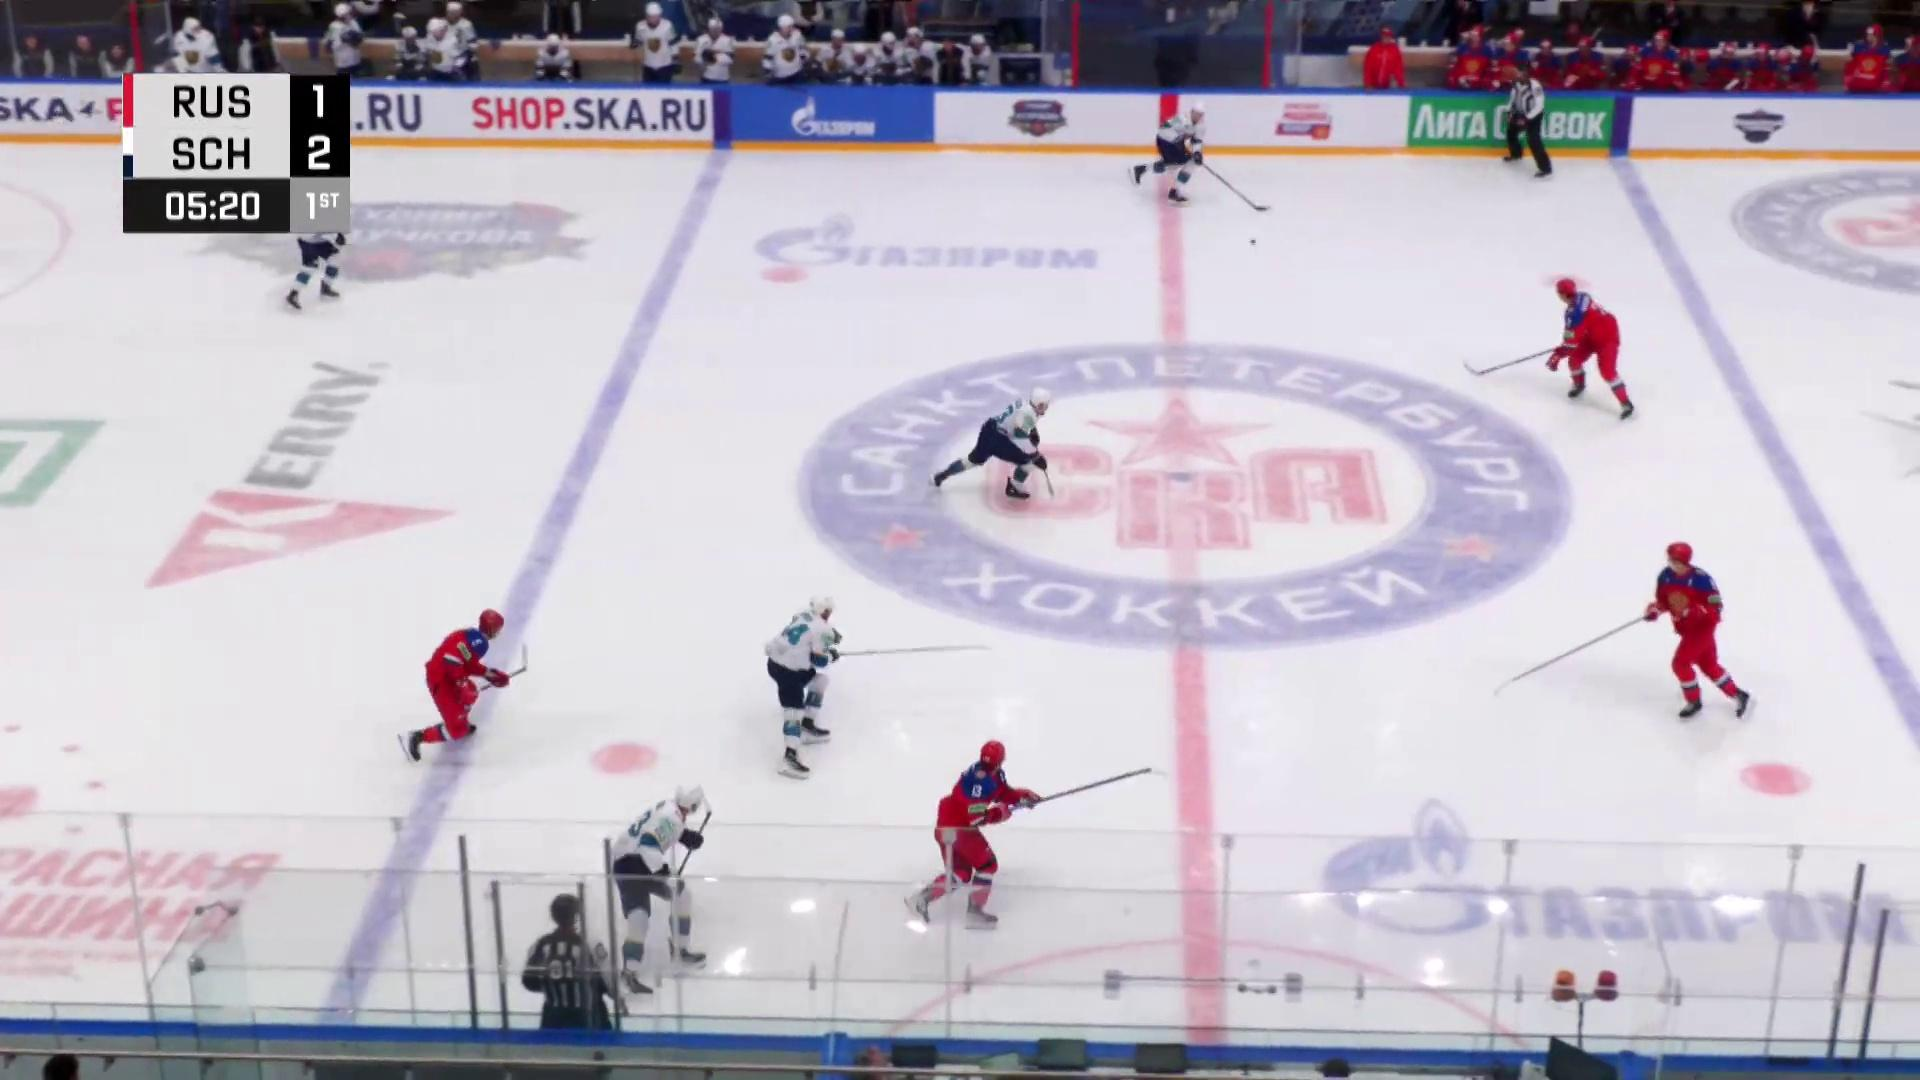ball: (1247, 239, 1257, 245)
